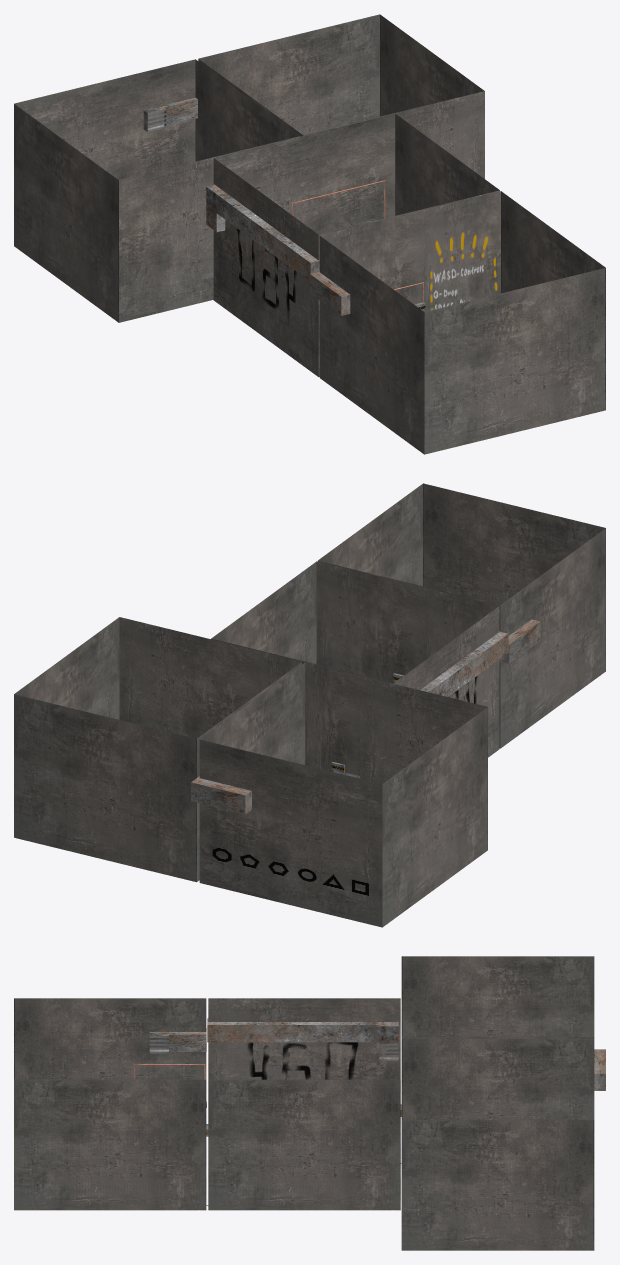
3 views of the same model, one above another, from view 1: azimuth 30°, elevation 25°; view 2: azimuth 150°, elevation 25°; view 3: azimuth 270°, elevation 25° (orthographic). The views are drawn at different scales.
Visible parts, largest first — view 1: Room1, Room1.001, Room2, Room1.002, Cube.001, Cube.002, Cube; view 2: Room1.001, Room1.002, Room1, Room2, Cube.001, Cube.002, Cube; view 3: Room1.002, Room1, Room2, Room1.001, Cube.001, Cube, Cube.002.
Boxes of the visible parts, box(x1,y1,x2,y2) form: Room1: box(319, 191, 605, 454); Room1.001: box(14, 59, 300, 322); Room2: box(213, 113, 499, 376); Room1.002: box(198, 14, 484, 226); Cube.001: box(206, 184, 319, 281); Cube.002: box(143, 97, 197, 131); Cube: box(310, 272, 350, 315); Room1.001: box(199, 662, 487, 927); Room1.002: box(14, 617, 302, 882); Room1: box(317, 483, 605, 748); Room2: box(211, 561, 499, 778); Cube.001: box(420, 631, 508, 696); Cube.002: box(191, 776, 251, 814); Cube: box(499, 619, 540, 663); Room1.002: box(401, 1038, 594, 1250); Room1: box(14, 998, 206, 1210); Room2: box(208, 998, 400, 1210); Room1.001: box(401, 956, 594, 1038); Cube.001: box(207, 1018, 398, 1061); Cube: box(149, 1028, 206, 1053); Cube.002: box(594, 1049, 605, 1090).
Size of the model in its own units: 4031 by 1506 by 6154.
Materials: 2 (2 with a texture image).
